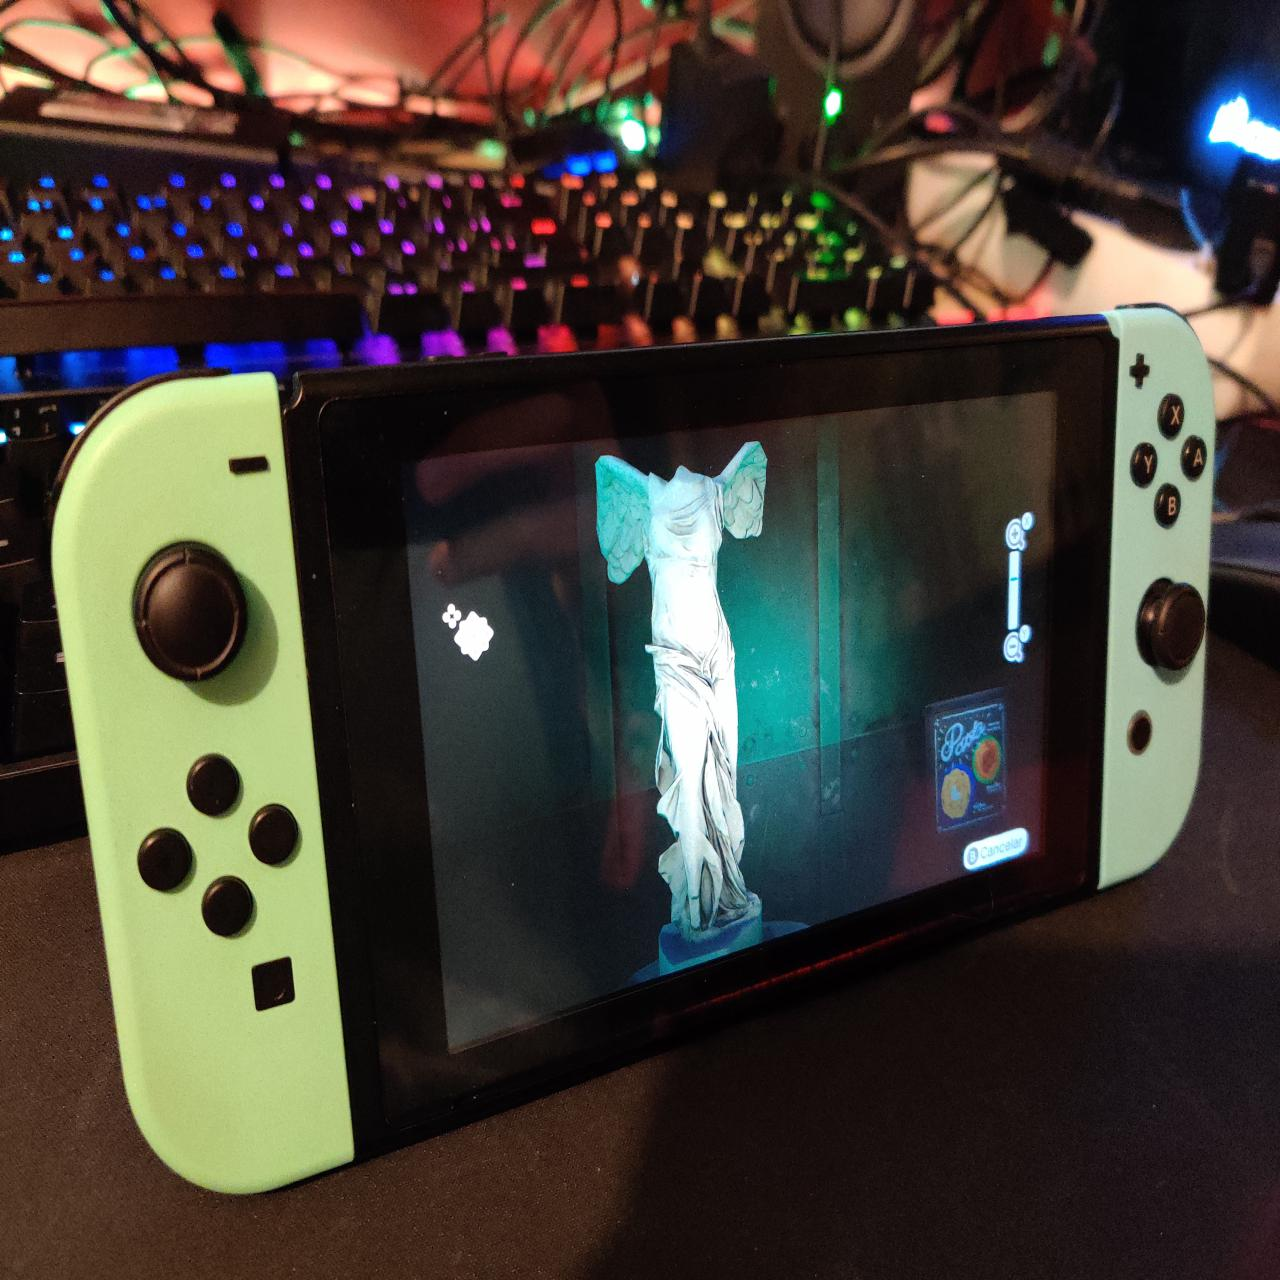Samothrace: (595, 441, 769, 946)
